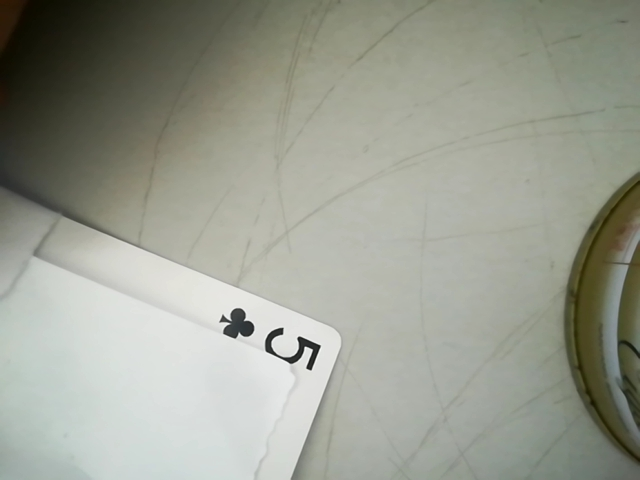mh 5: (205, 303, 335, 378)
